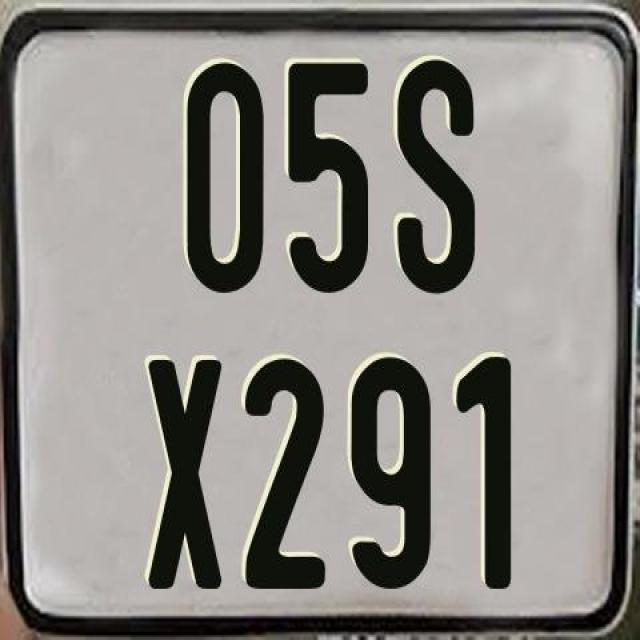0: (183, 58, 269, 290)
1: (455, 352, 509, 587)
2: (241, 359, 323, 596)
5: (284, 60, 370, 295)
9: (351, 354, 433, 586)
S: (398, 55, 478, 290)
X: (147, 355, 225, 584)
